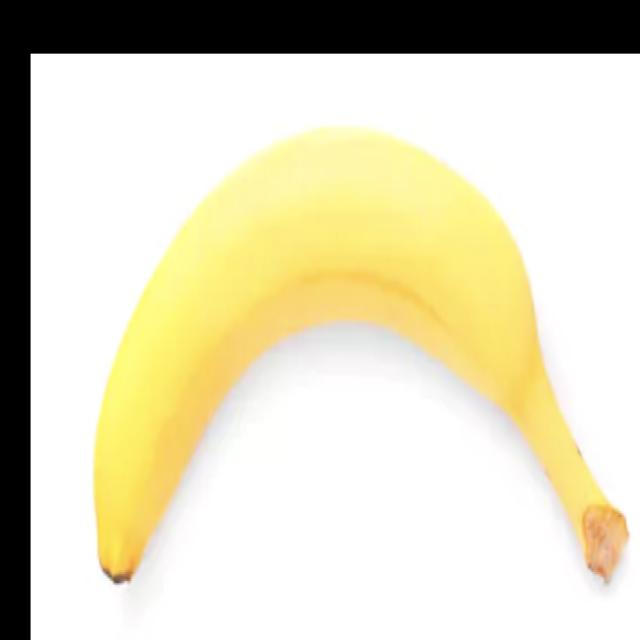Ripe: (78, 115, 630, 622)
